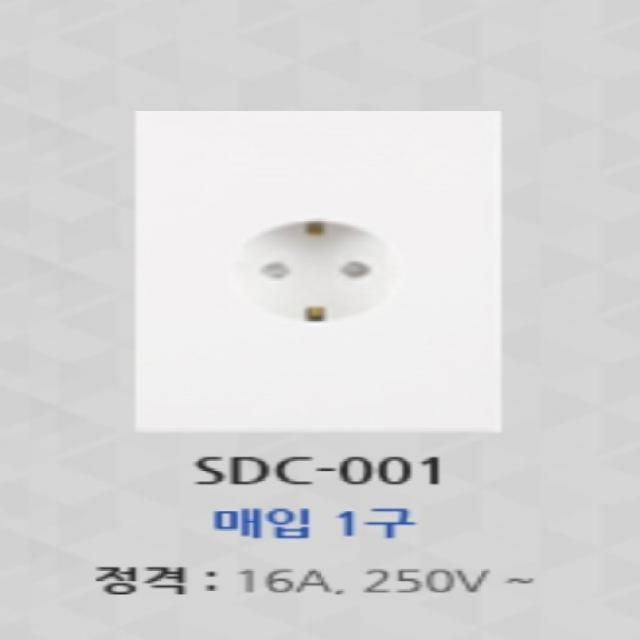typeb: (90, 99, 531, 451)
